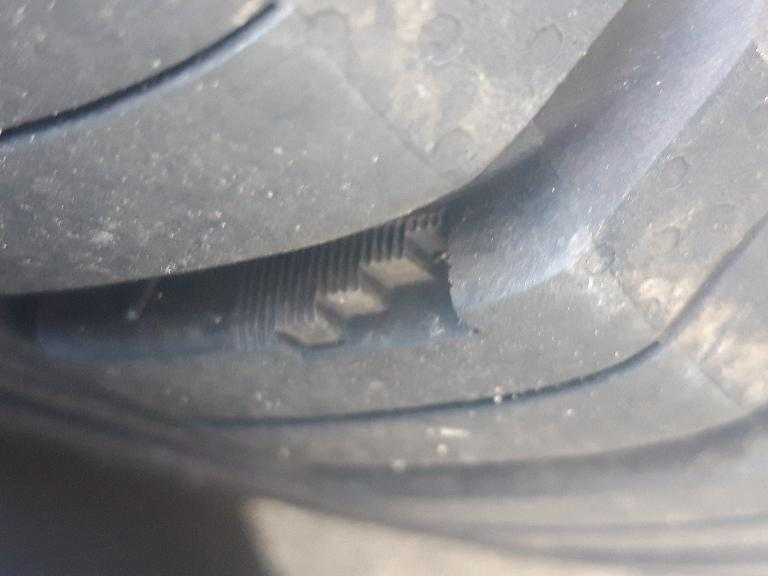temoin:80: (214, 200, 494, 384)
